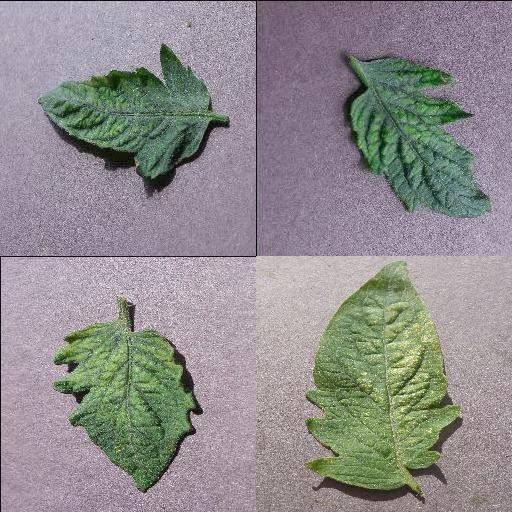Mosaic Virus: (50, 321, 196, 493), (38, 40, 213, 179), (346, 57, 490, 219)
Spider Mites: (303, 259, 462, 493)
